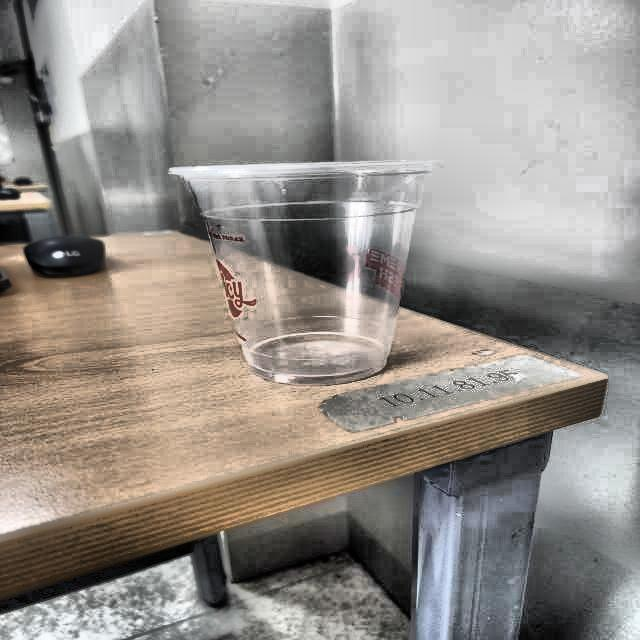plastic cup: (168, 161, 450, 385)
